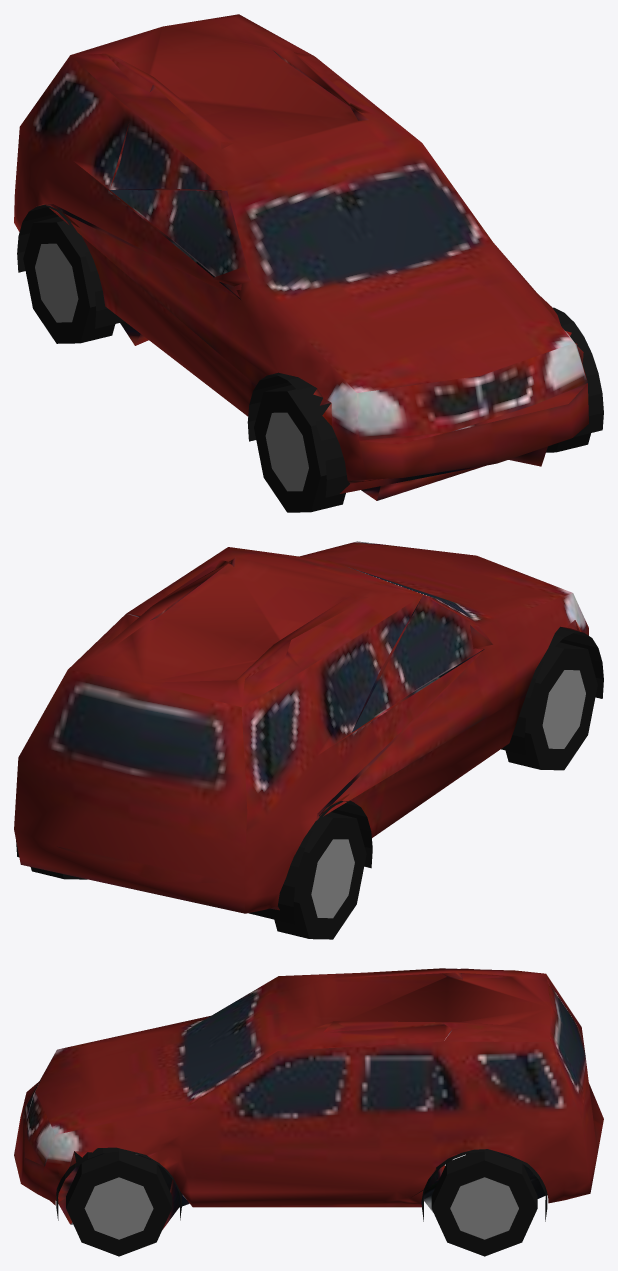
Rendered from suv-red-far.glb.
3 renders of one model, top to bottom at view 1: azimuth 30°, elevation 25°; view 2: azimuth 150°, elevation 25°; view 3: azimuth 270°, elevation 25°, orthographic. The views are drawn at different scales.
Parts seen in each view (by area): view 1: suv-far; view 2: suv-far; view 3: suv-far.
Boxes of the visible parts, bbox=[...] form: suv-far: bbox=[14, 14, 603, 512]; suv-far: bbox=[14, 541, 603, 939]; suv-far: bbox=[14, 968, 603, 1256].
Bounding box in the file's own units: 2.04 × 1.84 × 4.7.
Materials: 1 (1 with a texture image).
